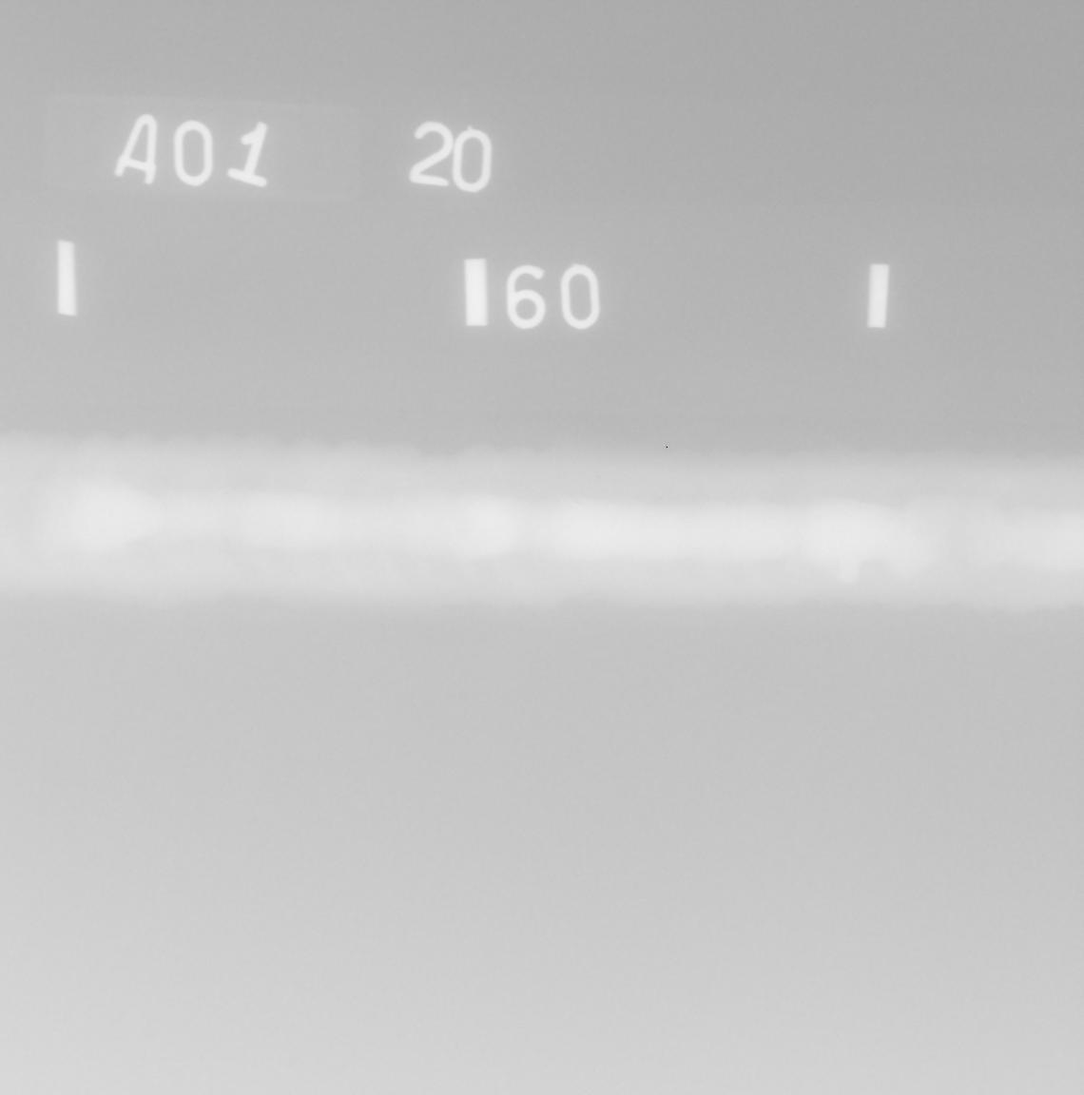Pore/Porosity: (571, 499, 584, 507), (595, 475, 601, 479)
